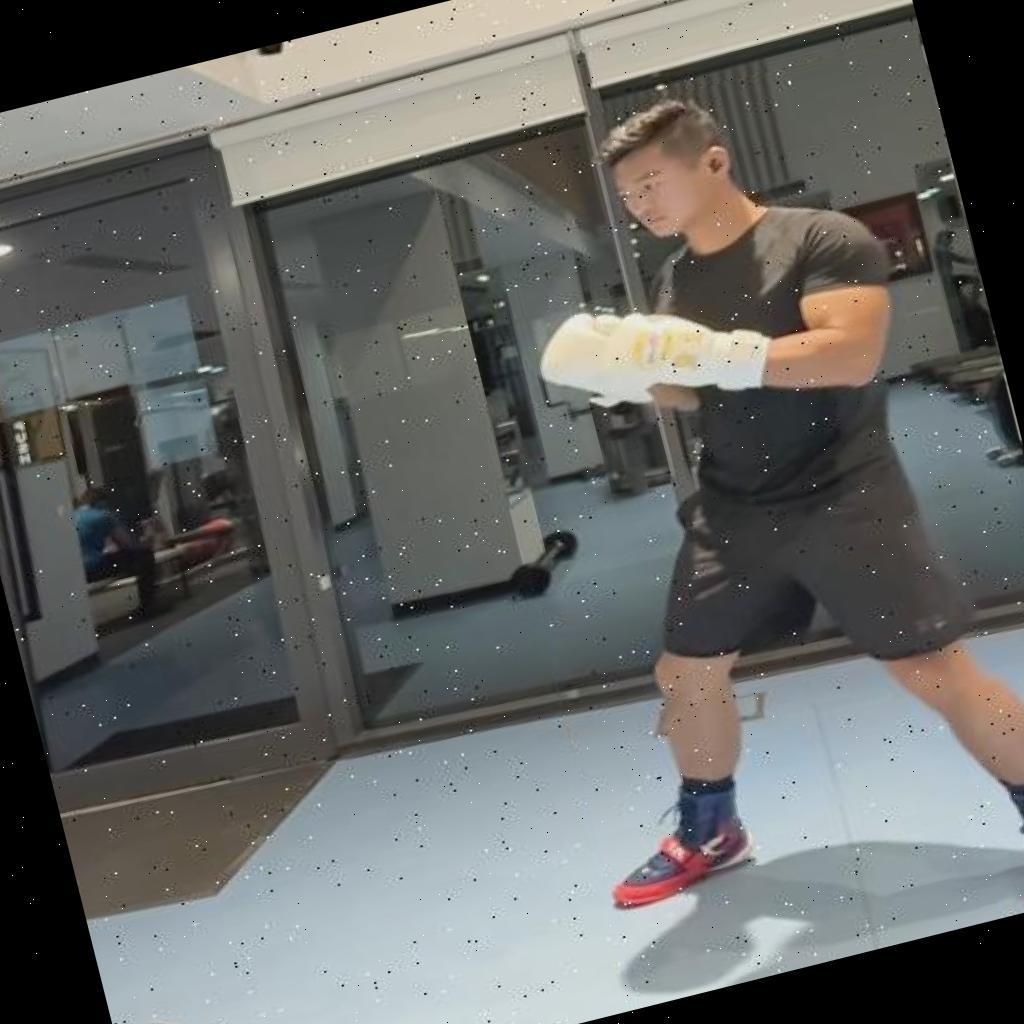no punch: (425, 33, 1024, 1008)
